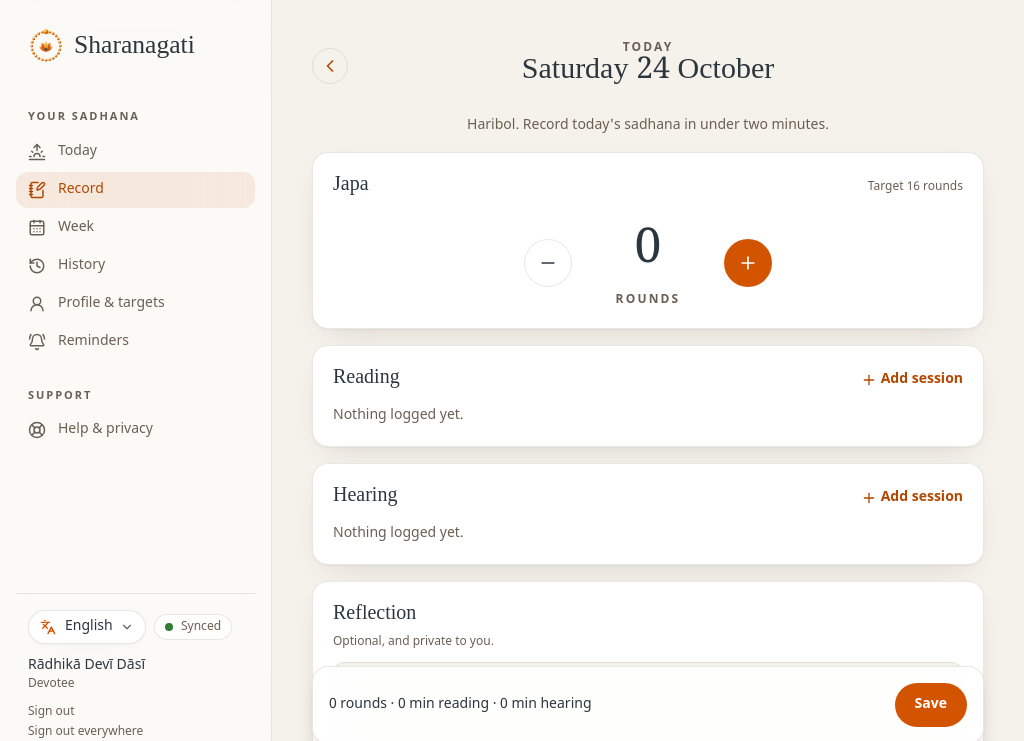
Scenario: EntryScreen › narrows the lectures to the speaker chosen first
Click the button with aria-label "Add hearing session": (912, 498) [861,488,963,508]
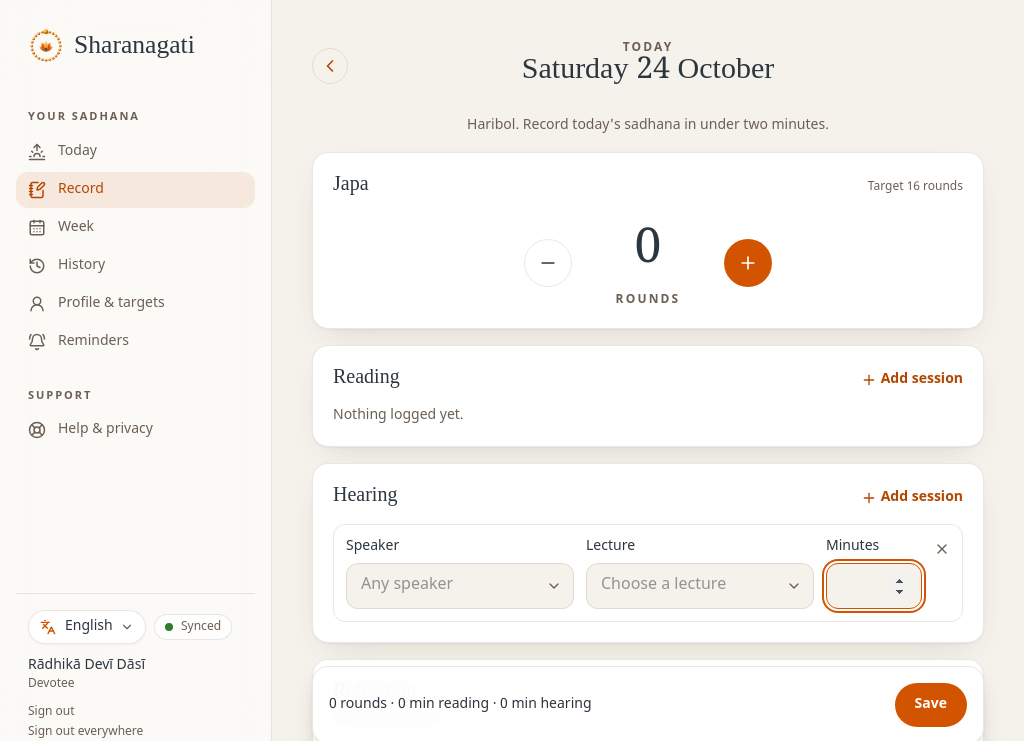
In the dropdown labelled "Speaker": (460, 586) [346,563,574,609], type "prabhu"
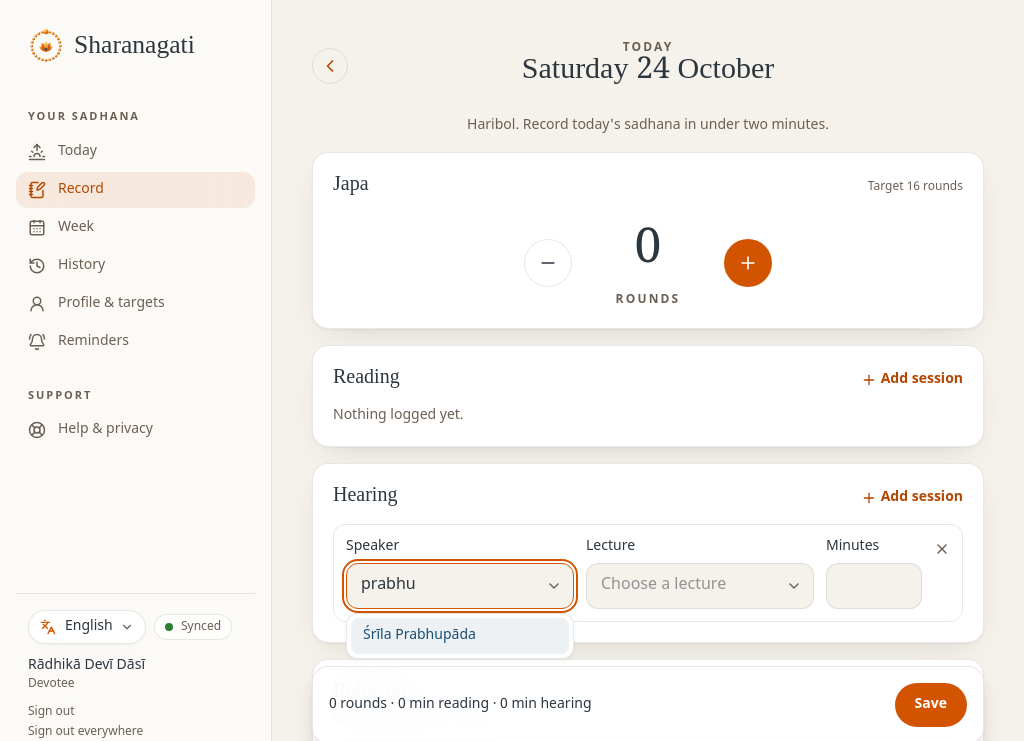
Click the option "Śrīla Prabhupāda": (460, 636) [351,618,569,654]
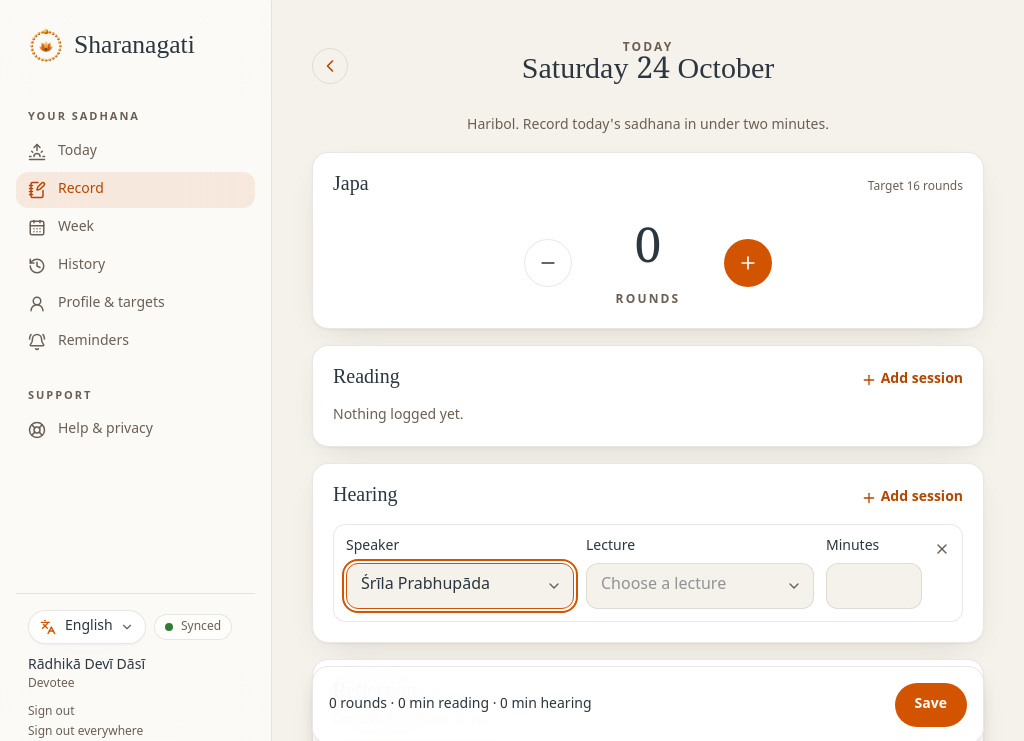
Click the dropdown labelled "Lecture": (700, 586) [586,563,814,609]
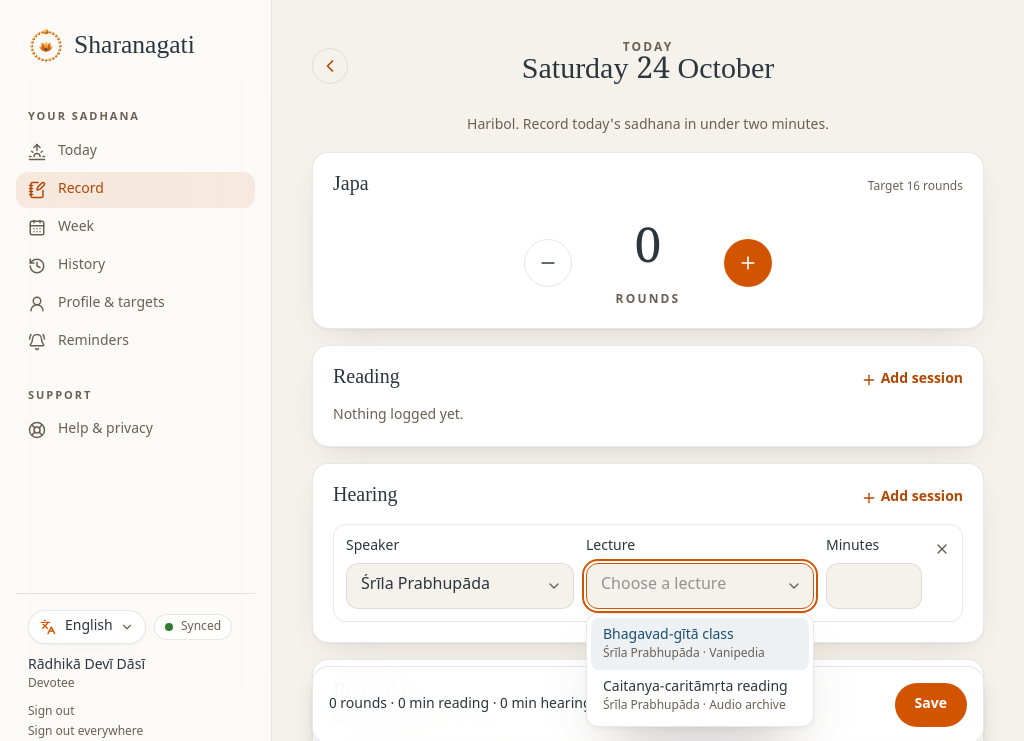
Expected: the options read "Bhagavad-gītā classŚrīla Prabhupāda · Vanipedia", "Caitanya-caritāmṛta readingŚrīla Prabhupāda · Audio archive", in this order, [591,618,809,670]; [603,678,788,714]
